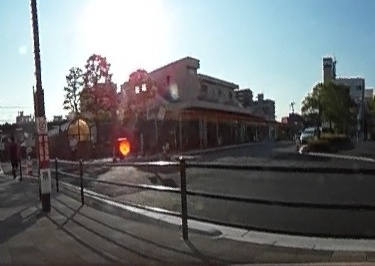person: (8, 136, 22, 177)
